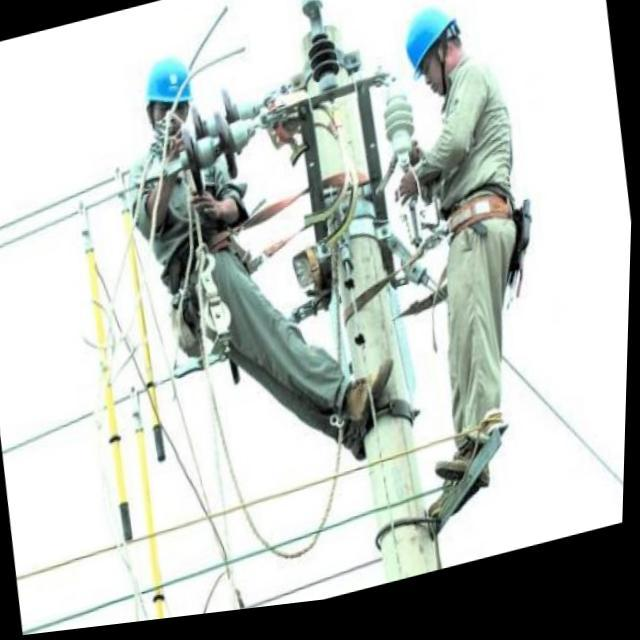belt: (167, 152, 338, 279), (410, 156, 500, 275)
